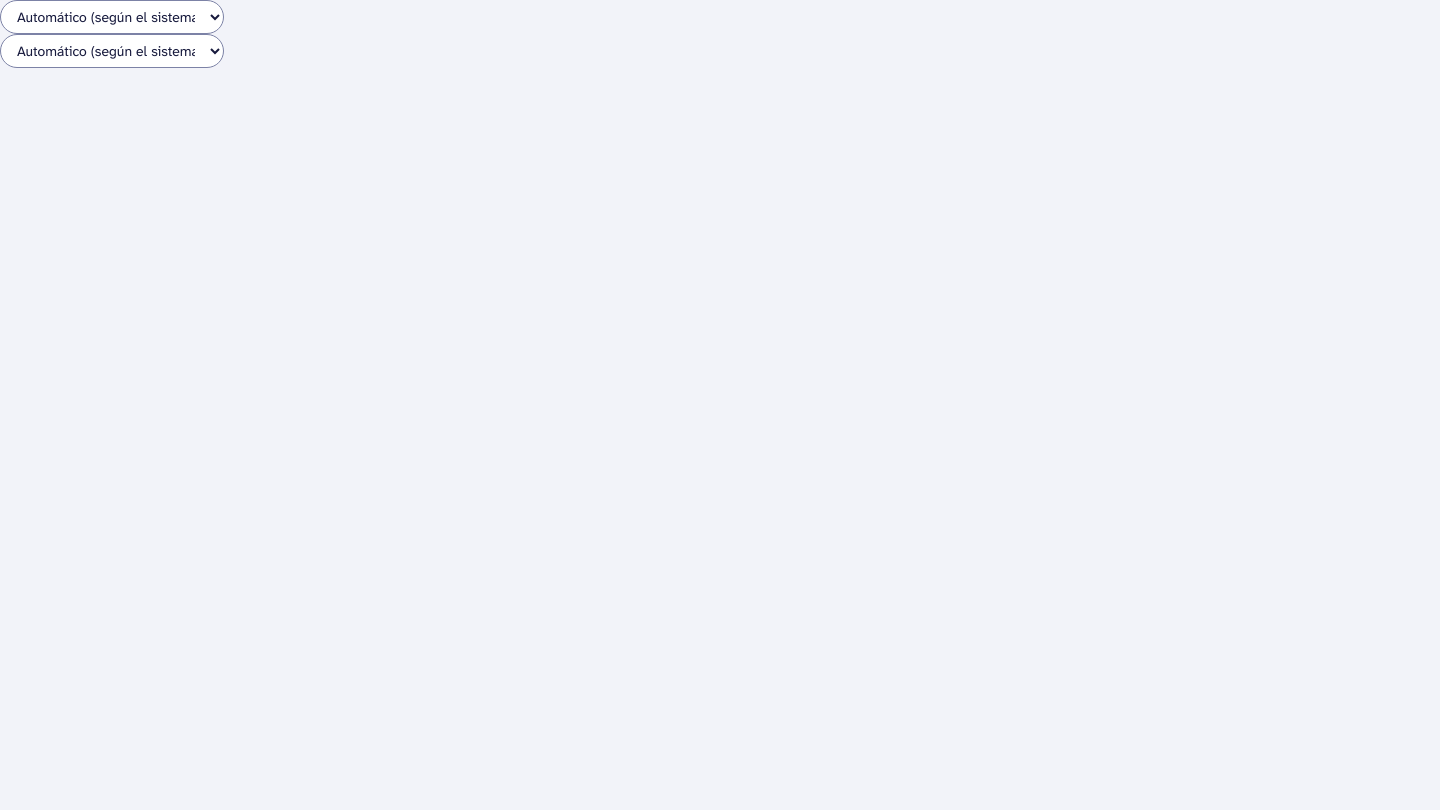
Test: ThemePicker › dos selectores (cabecera y ajustes) se mantienen sincronizados
Select "Sepia" in the 1st dropdown: (112, 17) [0,0,224,34]
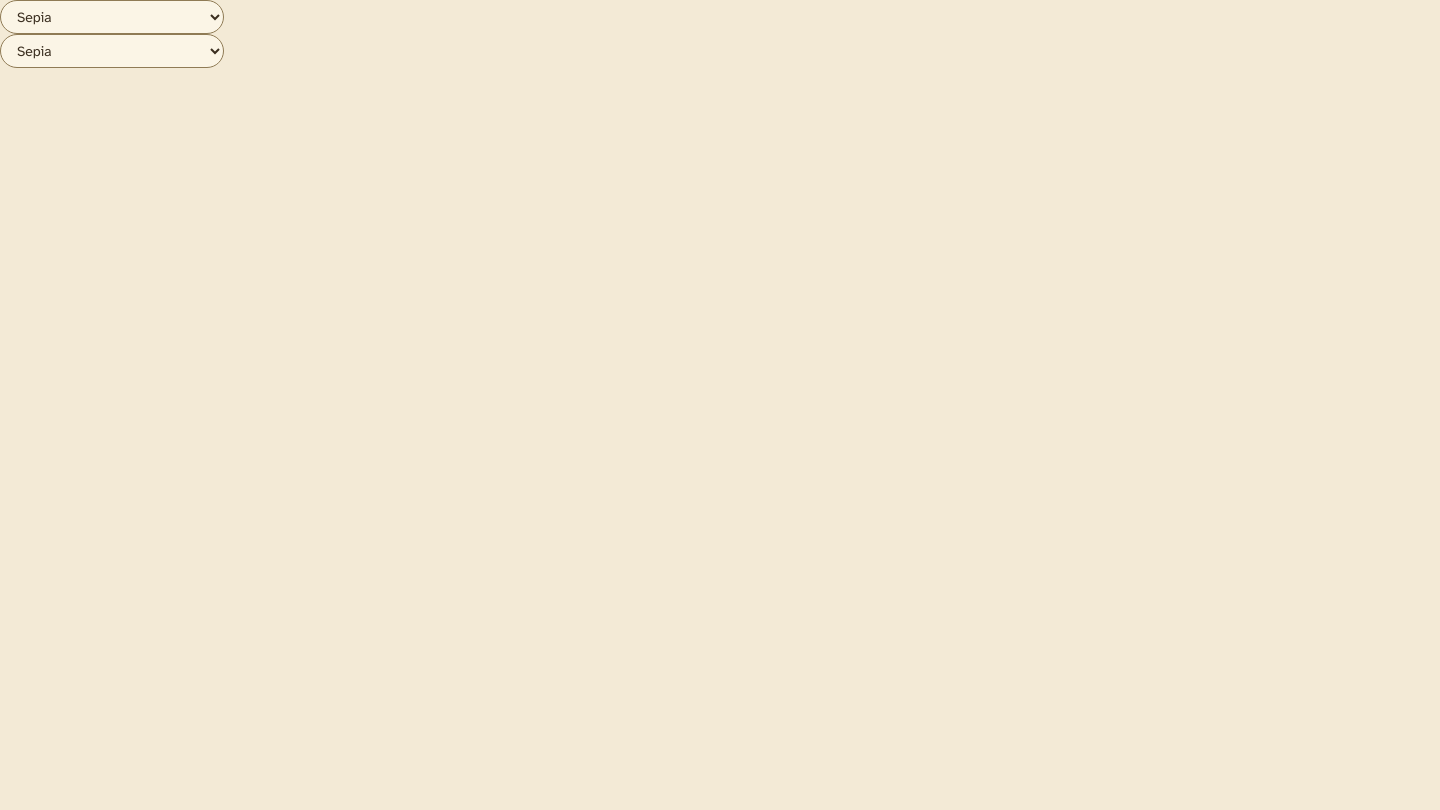
Check: the 2nd dropdown shows "Sepia", box [0,34,224,68]
